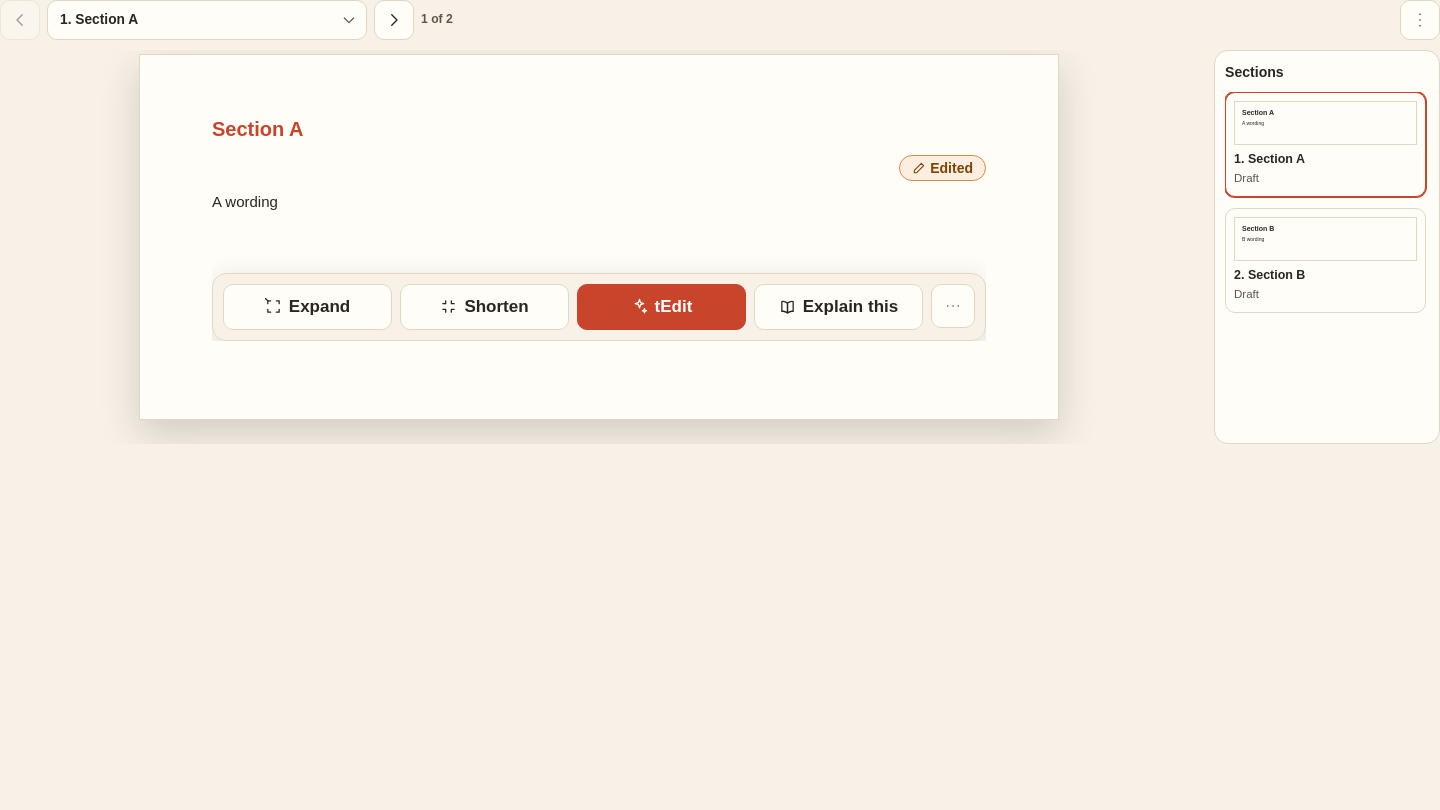
WorkspacePane editor identity › discards section A history if section B becomes active before A resolves
Click the button named "Document options": (1420, 20) [1400,0,1439,40]
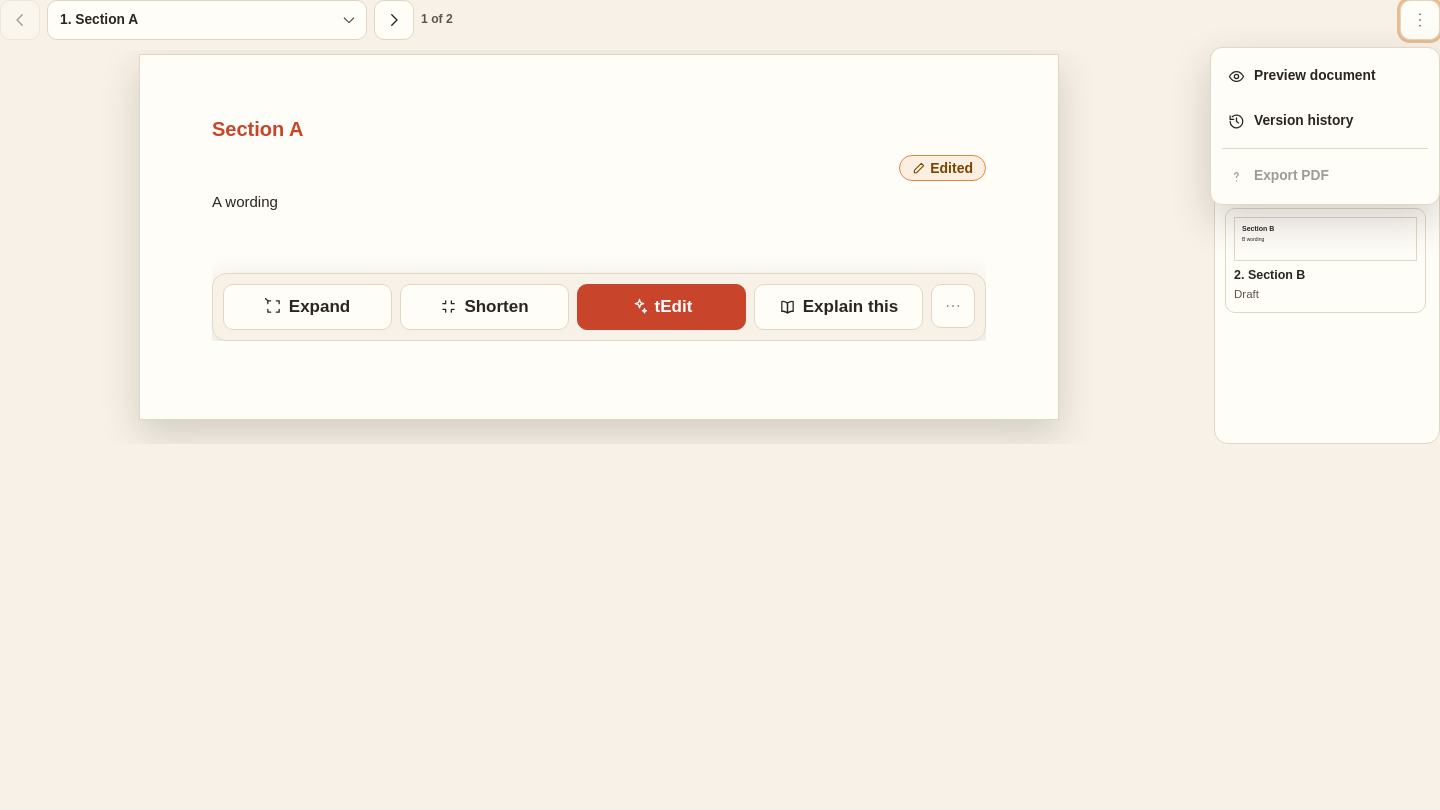
Click the menu item "Version history": (1325, 121) [1218,100,1432,142]
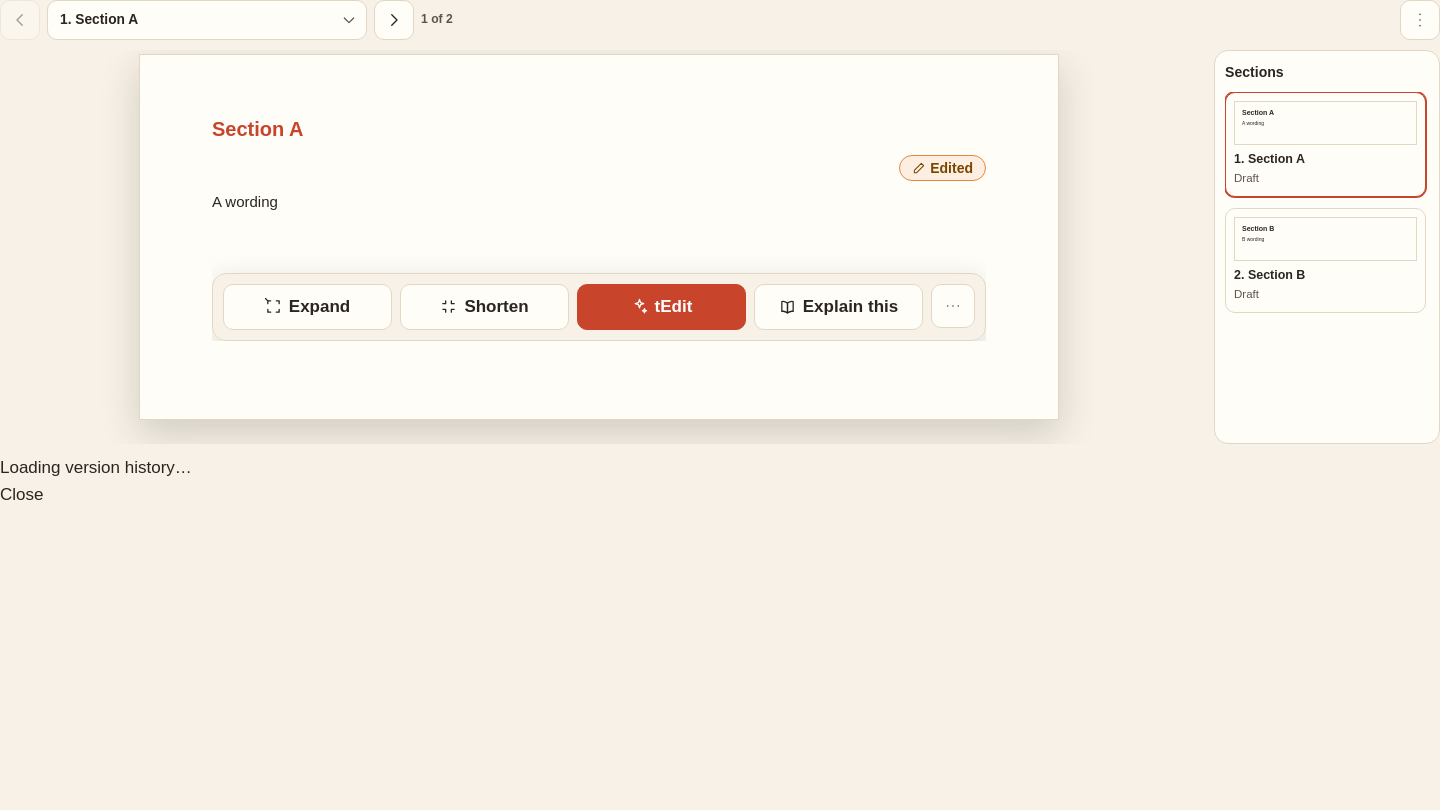
Check: the message shows "Loading version history", box [0,458,192,477]
